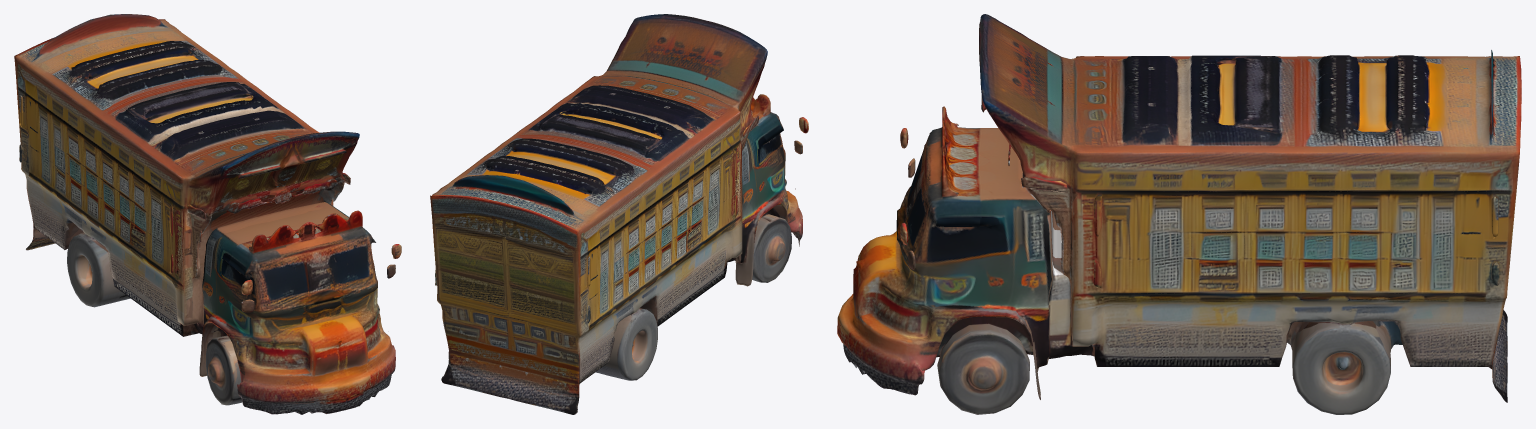
File: colorful_decorated_truck.glb
The picture shows the model from 3 angles, left to right: view 1: azimuth 30°, elevation 25°; view 2: azimuth 150°, elevation 25°; view 3: azimuth 270°, elevation 25°; orthographic projection. The views are drawn at different scales.
Visible parts, largest first — view 1: Object_2; view 2: Object_2; view 3: Object_2.
Part boxes in pixels (box(x1,y1,x2,y2)): Object_2: box(14, 14, 401, 414); Object_2: box(430, 14, 808, 414); Object_2: box(837, 14, 1521, 414).
Size of the model in its own units: 0.6943 by 1.01 by 1.9.
1 material, 1 textured.
